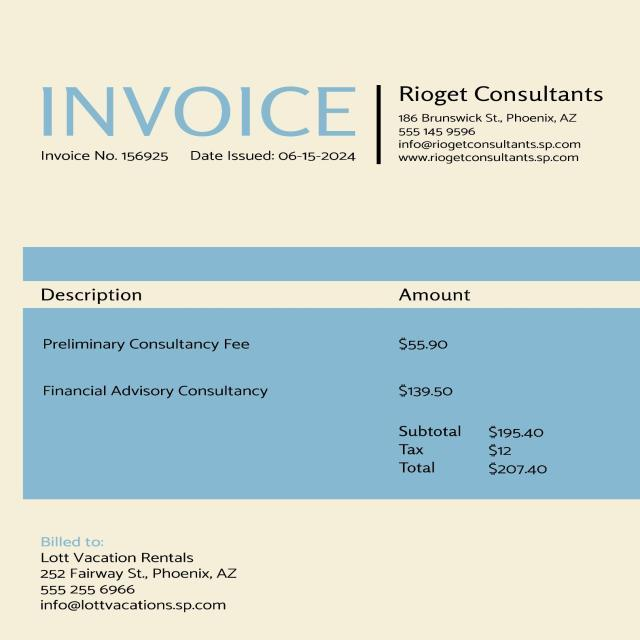ROI: (17, 264, 586, 406), (29, 532, 264, 624), (26, 78, 366, 140), (391, 80, 612, 172), (381, 414, 571, 488), (186, 147, 364, 168), (38, 144, 179, 163)
